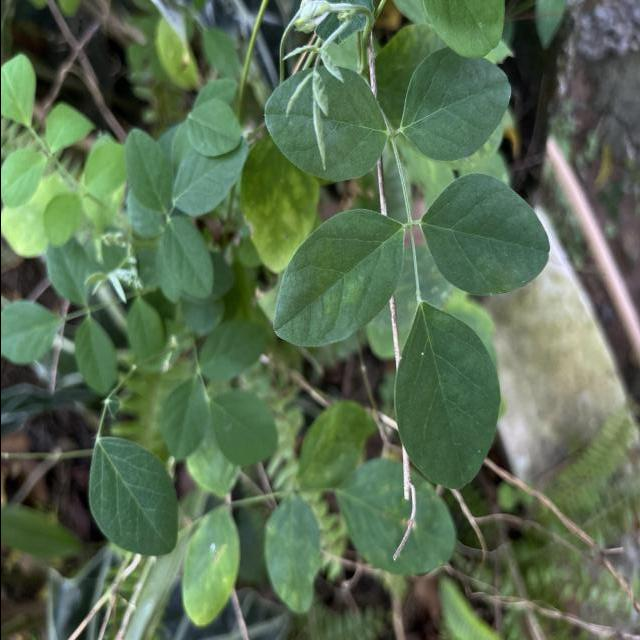Clitoria ternatea: (392, 299, 501, 492), (272, 207, 406, 348), (418, 172, 550, 298), (399, 46, 511, 162)
